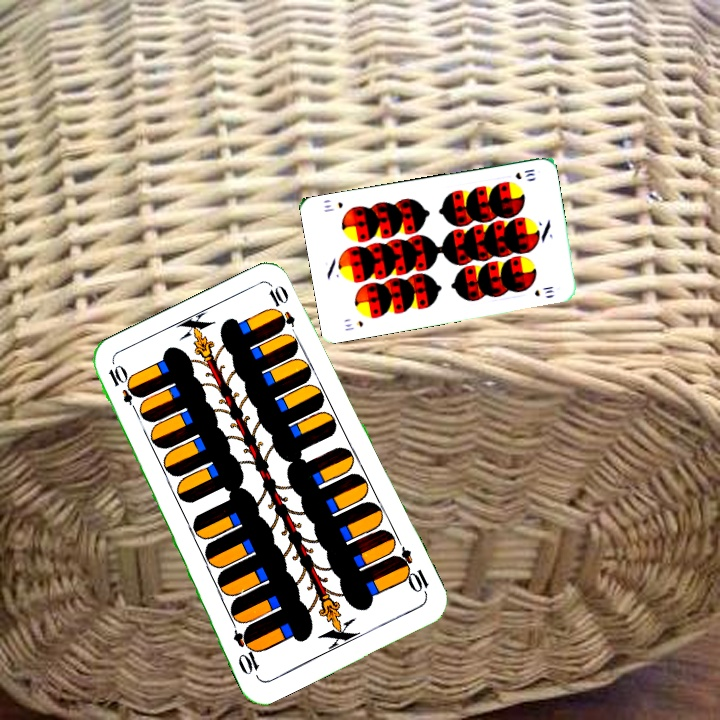E10: (390, 544, 432, 599), (104, 361, 143, 417)
S10: (511, 165, 537, 182), (341, 317, 365, 333)
